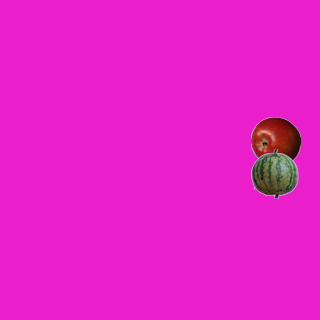Apple Braeburn: (250, 116, 300, 166)
Watermelon: (249, 148, 299, 198)
